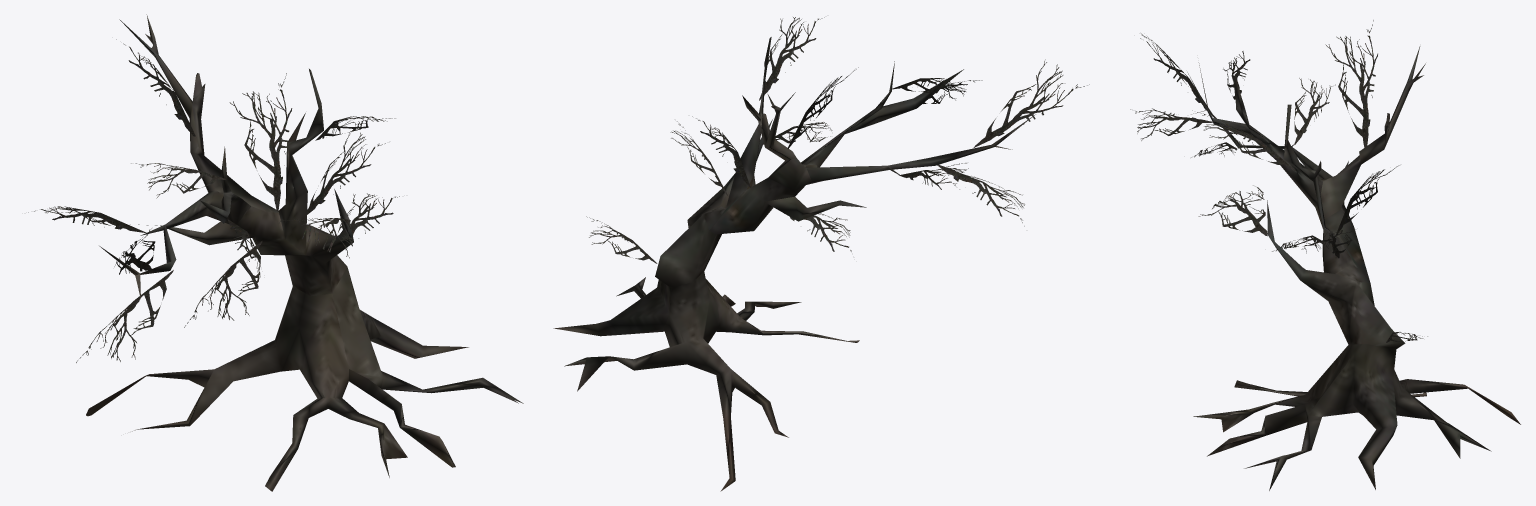
3 renders of one model, left to right at view 1: azimuth 30°, elevation 25°; view 2: azimuth 150°, elevation 25°; view 3: azimuth 270°, elevation 25°, orthographic. The views are drawn at different scales.
Visible parts, largest first — view 1: tree2; view 2: tree2; view 3: tree2.
Part boxes in pixels (box(x1,y1,x2,y2)): tree2: box(28, 14, 523, 491); tree2: box(553, 17, 1089, 491); tree2: box(1130, 20, 1520, 490).
Size of the model in its own units: 8.45 by 7.34 by 6.85.
1 material, 1 textured.
